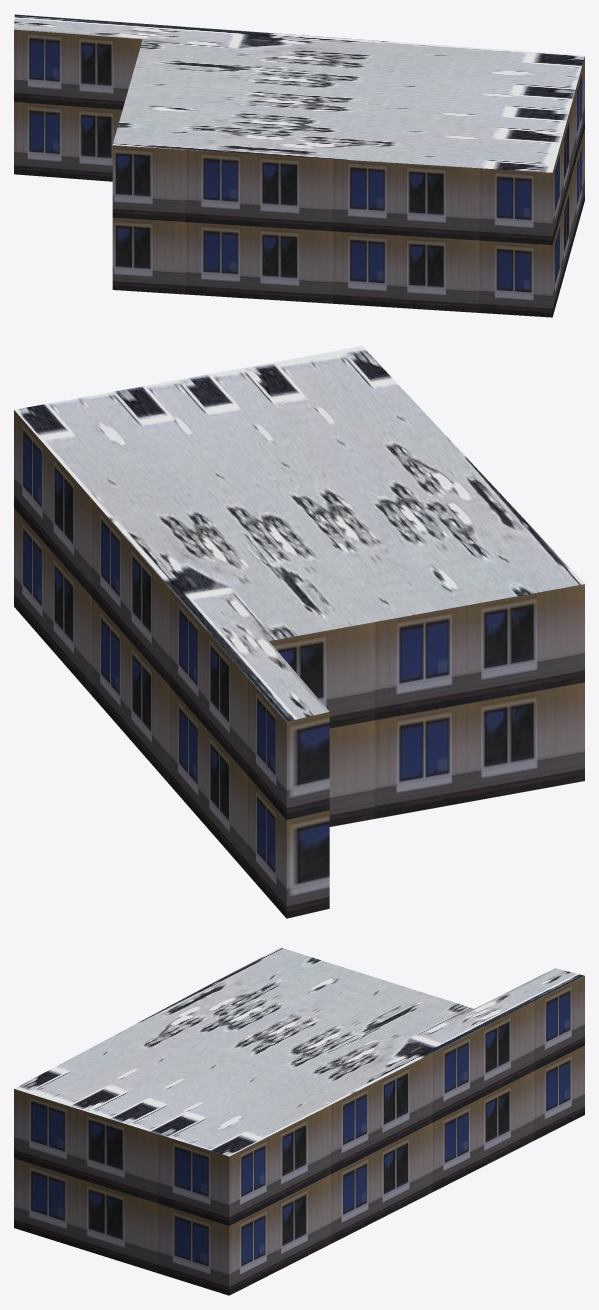
File: ResTex__944.fbx
The picture shows the model from 3 angles, top to bottom: view 1: azimuth 30°, elevation 25°; view 2: azimuth 150°, elevation 25°; view 3: azimuth 270°, elevation 25°; orthographic projection. The views are drawn at different scales.
Visible parts, largest first — view 1: CityEngineMaterial_5_m, CityEngineMaterial_2_m; view 2: CityEngineMaterial_5_m, CityEngineMaterial_2_m; view 3: CityEngineMaterial_5_m, CityEngineMaterial_2_m.
Part boxes in pixels (x1,y1,x2,y2): CityEngineMaterial_5_m: [14, 29, 584, 317]; CityEngineMaterial_2_m: [14, 14, 584, 172]; CityEngineMaterial_5_m: [14, 410, 584, 918]; CityEngineMaterial_2_m: [14, 346, 584, 721]; CityEngineMaterial_5_m: [14, 976, 584, 1295]; CityEngineMaterial_2_m: [14, 947, 584, 1156].
Bounding box in the file's own units: 19.35 × 6 × 22.31.
2 materials, 2 textured.
